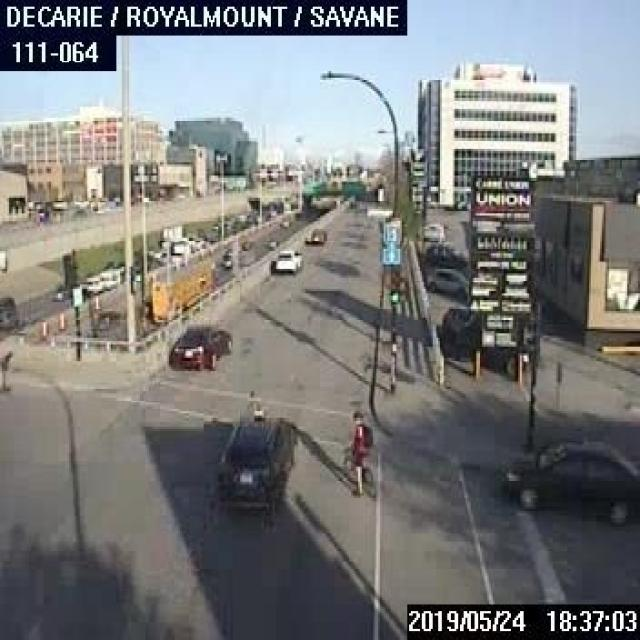cyclist: (332, 406, 376, 496)
vehicle: (502, 438, 638, 522), (213, 404, 296, 509), (437, 304, 537, 378), (167, 322, 233, 369), (424, 263, 469, 298), (424, 239, 466, 264), (273, 247, 302, 271), (0, 293, 16, 324), (421, 221, 445, 240), (304, 229, 324, 244), (53, 287, 69, 302)
